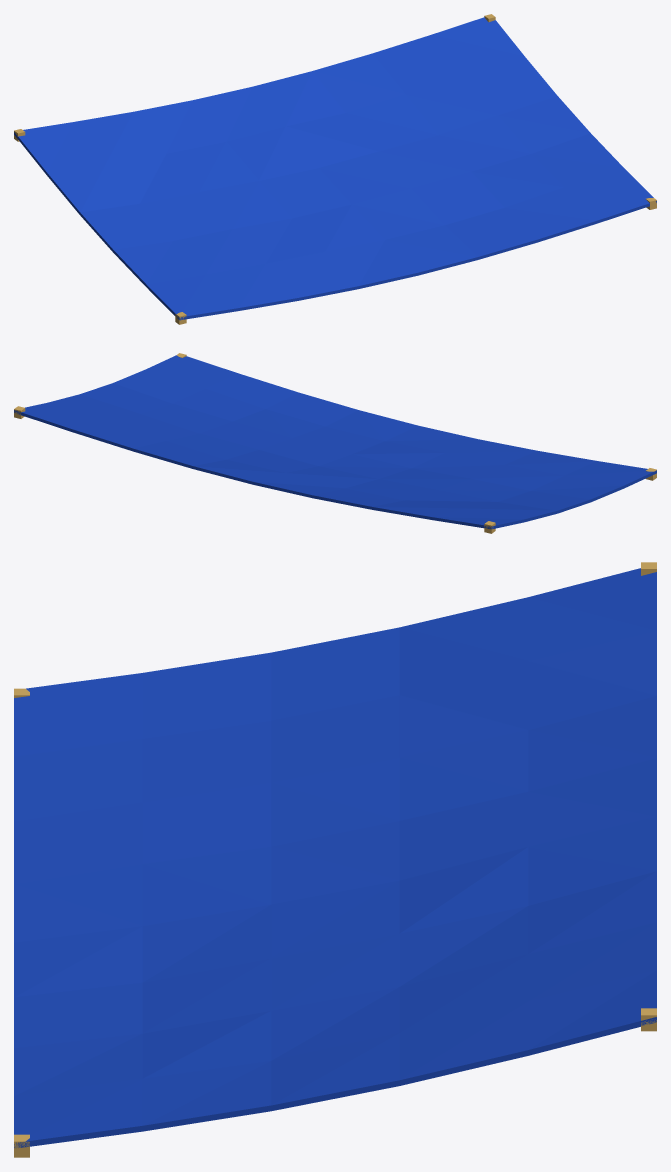
File: SM_Stall_AwningTarp_5x3_01.fbx
3 renders of one model, top to bottom at view 1: azimuth 30°, elevation 25°; view 2: azimuth 150°, elevation 25°; view 3: azimuth 270°, elevation 25°, orthographic. The views are drawn at different scales.
Visible parts, largest first — view 1: SM_Stall_AwningTarp_5x3_01; view 2: SM_Stall_AwningTarp_5x3_01; view 3: SM_Stall_AwningTarp_5x3_01.
Part boxes in pixels (bbox=[...]): SM_Stall_AwningTarp_5x3_01: bbox=[14, 14, 656, 324]; SM_Stall_AwningTarp_5x3_01: bbox=[14, 353, 656, 533]; SM_Stall_AwningTarp_5x3_01: bbox=[14, 562, 656, 1157].
Bounding box in the file's own units: 5 × 0.823 × 3.
1 material, 1 textured.
